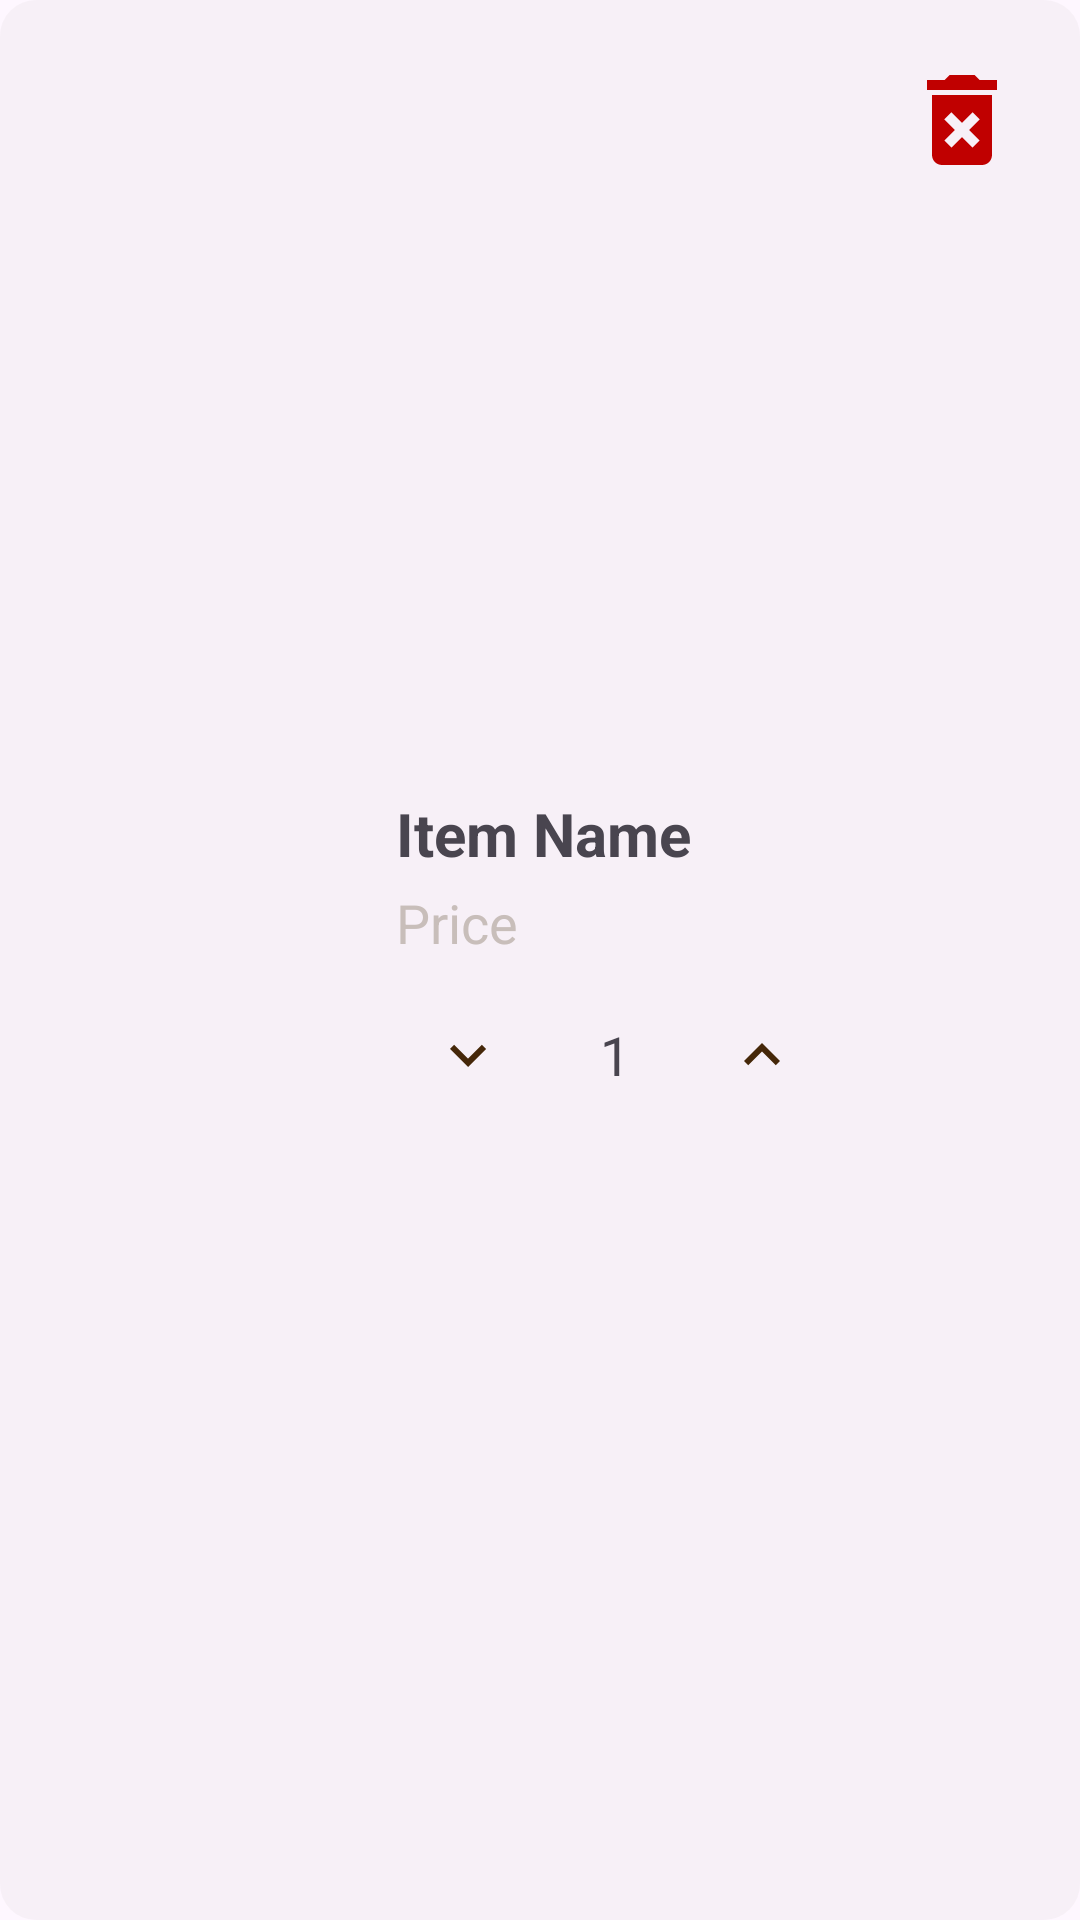

Icon click points for this 1080×1920 phone screenshot, format (x=x, y=y):
Decrement: (x=468, y=1056)
Delete: (x=962, y=120)
Increment: (x=762, y=1054)
